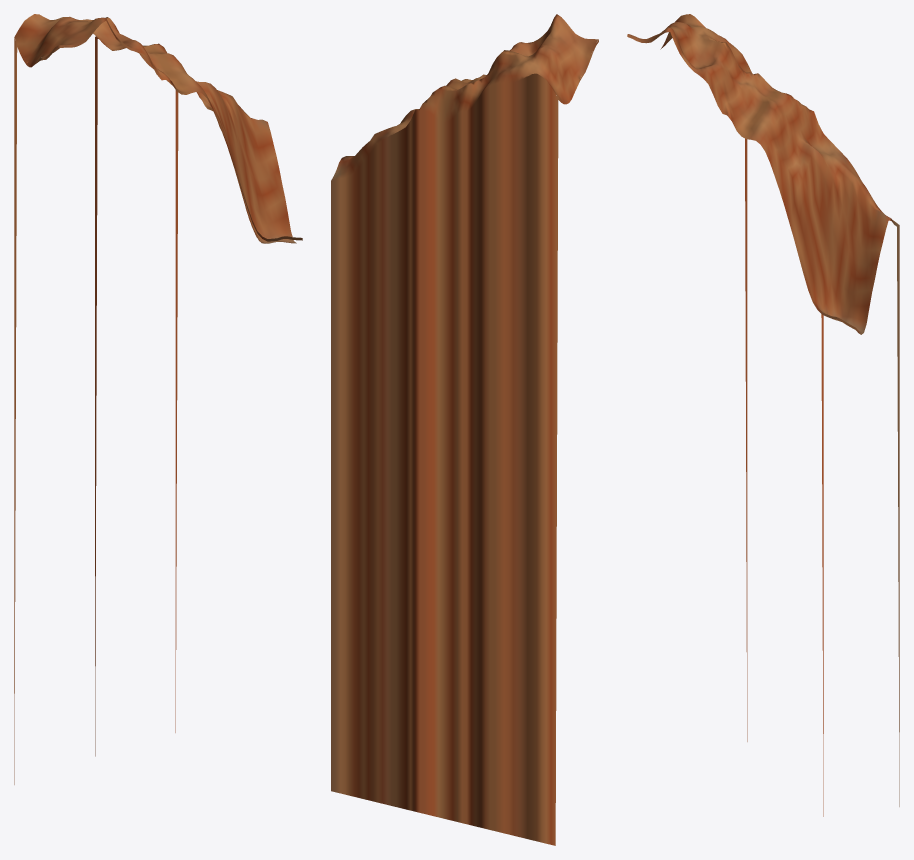
Rendered from terrain-058.glb.
3 views of the same model, side by side, from view 1: azimuth 30°, elevation 25°; view 2: azimuth 150°, elevation 25°; view 3: azimuth 330°, elevation 25° (orthographic). The views are drawn at different scales.
Visible parts, largest first — view 1: terrain-058; view 2: terrain-058; view 3: terrain-058.
Part boxes in pixels (x1,y1,x2,y2): terrain-058: [14, 14, 302, 784]; terrain-058: [331, 14, 598, 845]; terrain-058: [627, 14, 899, 816].
Bounding box in the file's own units: 384 × 1291 × 128.
